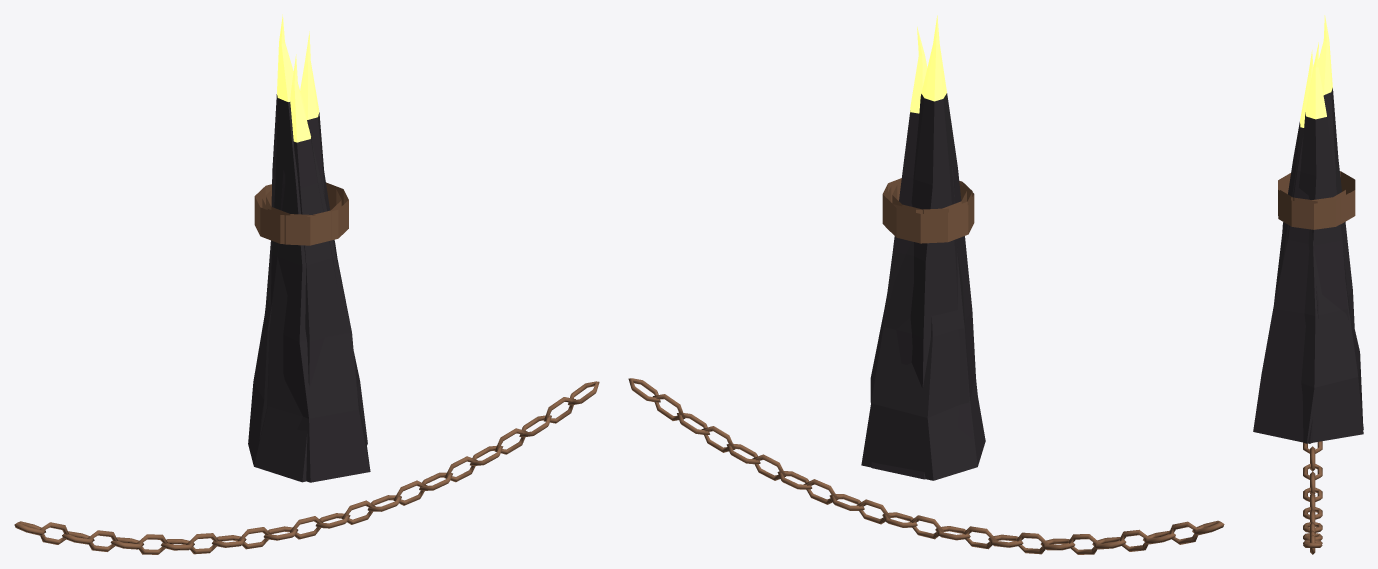
Rendered from RitualCircle.fbx.
The picture shows the model from 3 angles, left to right: view 1: azimuth 30°, elevation 25°; view 2: azimuth 150°, elevation 25°; view 3: azimuth 270°, elevation 25°; orthographic projection. The views are drawn at different scales.
Visible parts, largest first — view 1: RitualSpike1, RitualSpike0, RitualChain, RitualSpike2; view 2: RitualSpike0, RitualSpike1, RitualChain, RitualSpike2; view 3: RitualSpike1, RitualSpike0, RitualSpike2, RitualChain.
Part boxes in pixels (x1=…): RitualSpike1: x1=254, y1=14, x2=370, y2=482; RitualSpike0: x1=248, y1=54, x2=367, y2=482; RitualChain: x1=14, y1=381, x2=599, y2=554; RitualSpike2: x1=259, y1=31, x2=348, y2=439; RitualSpike0: x1=861, y1=162, x2=985, y2=480; RitualSpike1: x1=884, y1=15, x2=977, y2=398; RitualChain: x1=628, y1=378, x2=1224, y2=554; RitualSpike2: x1=871, y1=26, x2=973, y2=479; RitualSpike1: x1=1253, y1=15, x2=1355, y2=443; RitualSpike0: x1=1273, y1=50, x2=1363, y2=443; RitualSpike2: x1=1278, y1=42, x2=1363, y2=429; RitualChain: x1=1303, y1=441, x2=1322, y2=554.
Bounding box in the file's own units: 2.53 × 2.16 × 0.4604.
